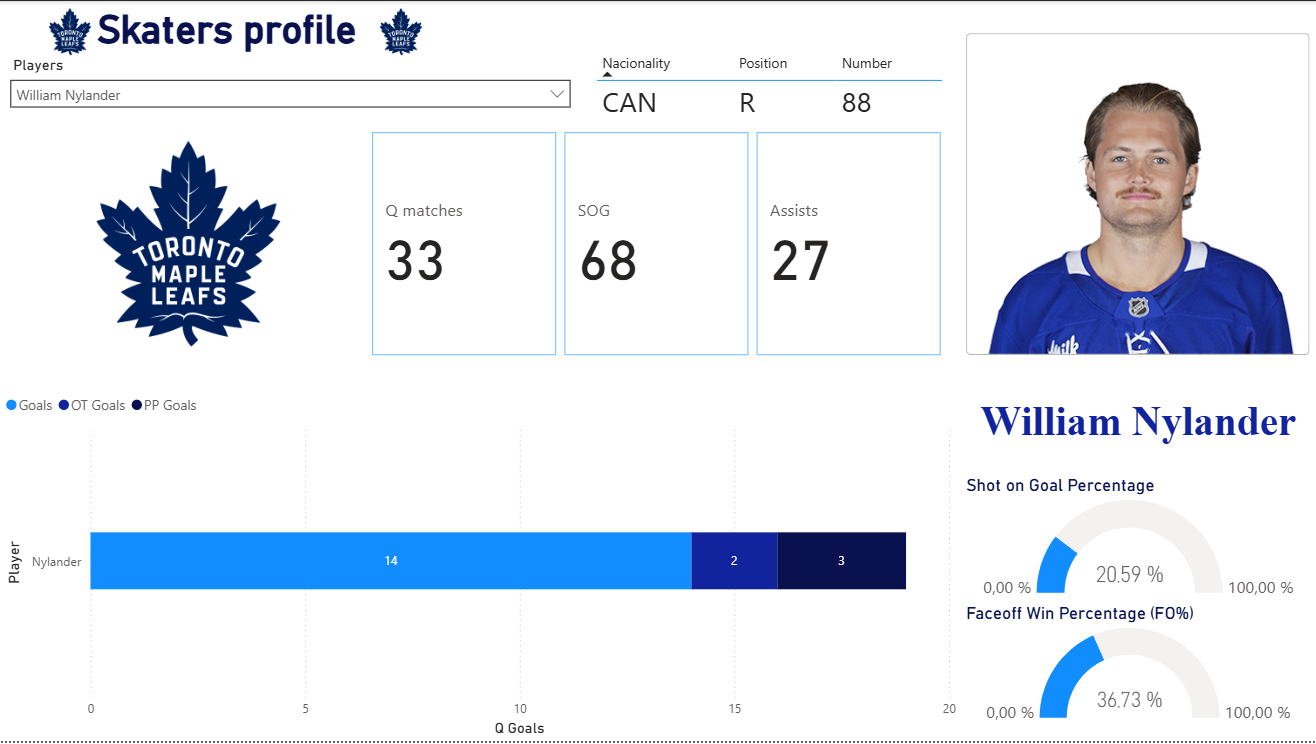

What the dashboard file says about the page in this screenshot:
{"tool":"powerbi","page":{"name":"skaters profile","canvas":[1280,720],"ordinal":2},"visuals":[{"type":"slicer","fields":{"Values":["leafs.Personalizado"]},"box":[0,49,564.6,68.9],"z":0},{"type":"advancedSlicerVisual","fields":{"Values":["leafs.hs"]},"box":[935,26.2,345,323.6],"z":1000},{"type":"barChart","fields":{"Category":["leafs.lastname"],"Y":["Sum(current stats.skaters.goals)","Sum(current stats.skaters.overtimeGoals)","Sum(current stats.skaters.powerPlayGoals)"]},"box":[0,372.3,935,347.4],"z":2000},{"type":"gauge","fields":{"Y":["Sum(current stats.skaters.shootingPctg)"]},"box":[934.7,461,345.3,124.5],"z":3000},{"type":"gauge","fields":{"Y":["Sum(current stats.skaters.faceoffWinPctg)"]},"box":[934.7,585.5,345.3,121.6],"z":4000},{"type":"cardVisual","fields":{"Data":["Sum(current stats.skaters.gamesPlayed)","Sum(current stats.skaters.shots)","Sum(current stats.skaters.assists)"]},"box":[356.9,122.5,565.1,227.2],"z":5000},{"type":"card","fields":{"Values":["Min(leafs.Personalizado)"]},"box":[935,350.9,345,109.4],"z":6000},{"type":"tableEx","fields":{"Values":["leafs.birthCountry","leafs.positionCode","leafs.n"]},"box":[574.6,45.2,347.4,77.3],"z":7000},{"type":"image","box":[10,123,347,227],"z":8000},{"type":"textbox","box":[89.5,0,333.6,59.3],"z":9001},{"type":"image","box":[357,0,65.2,60.3],"z":9002},{"type":"image","box":[35,0,65.2,60.3],"z":9003}]}

Visuals, with their boxes in screenshot pixels (x1, y1, x2, y2), scaled from the page's 1280x720 canvas onto the 1316x744 screenshot:
slicer - leafs.Personalizado: [left=0, top=51, right=580, bottom=122]
advancedSlicerVisual - leafs.hs: [left=961, top=27, right=1315, bottom=361]
barChart - leafs.lastname x Sum(current stats.skaters.goals): [left=0, top=385, right=961, bottom=743]
gauge - Sum(current stats.skaters.shootingPctg): [left=961, top=476, right=1315, bottom=605]
gauge - Sum(current stats.skaters.faceoffWinPctg): [left=961, top=605, right=1315, bottom=731]
cardVisual - Sum(current stats.skaters.gamesPlayed) x Sum(current stats.skaters.shots): [left=367, top=127, right=948, bottom=361]
card - Min(leafs.Personalizado): [left=961, top=363, right=1315, bottom=476]
tableEx - leafs.birthCountry x leafs.positionCode: [left=591, top=47, right=948, bottom=127]
image: [left=10, top=127, right=367, bottom=362]
textbox: [left=92, top=0, right=435, bottom=61]
image: [left=367, top=0, right=434, bottom=62]
image: [left=36, top=0, right=103, bottom=62]
